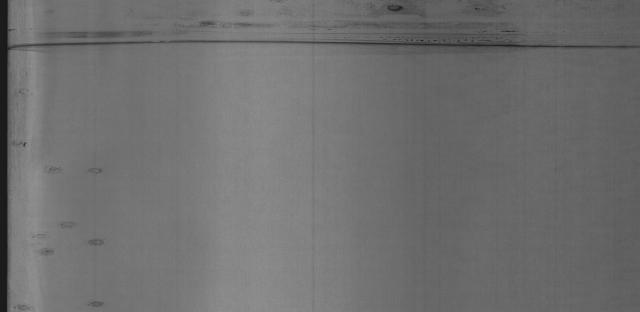crease: (20, 37, 612, 64)
